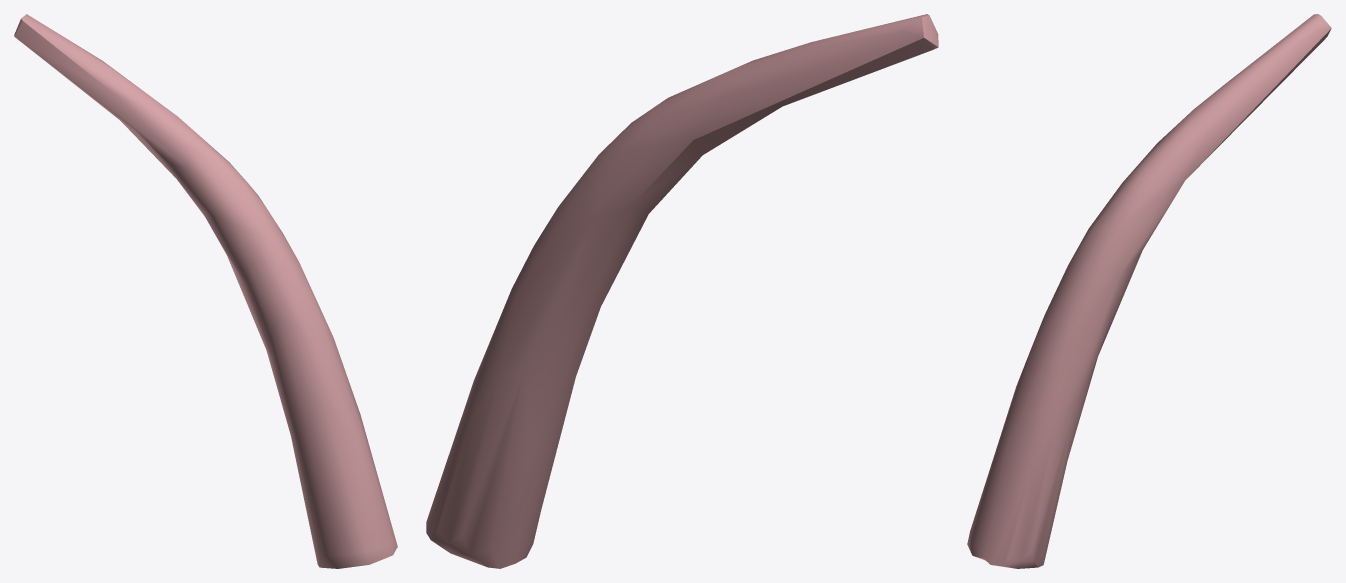
The model's file is fma68223_fj2460.glb.
3 renders of one model, left to right at view 1: azimuth 30°, elevation 25°; view 2: azimuth 210°, elevation 25°; view 3: azimuth 270°, elevation 25°, orthographic. The views are drawn at different scales.
Parts seen in each view (by area): view 1: FMA68223_FJ2460; view 2: FMA68223_FJ2460; view 3: FMA68223_FJ2460.
Boxes of the visible parts, x1,y1,x2,y2 form: FMA68223_FJ2460: (14,14,397,568); FMA68223_FJ2460: (426,14,938,568); FMA68223_FJ2460: (967,14,1331,568).
Bounding box in the file's own units: 0.0184 × 0.038 × 0.0269.
